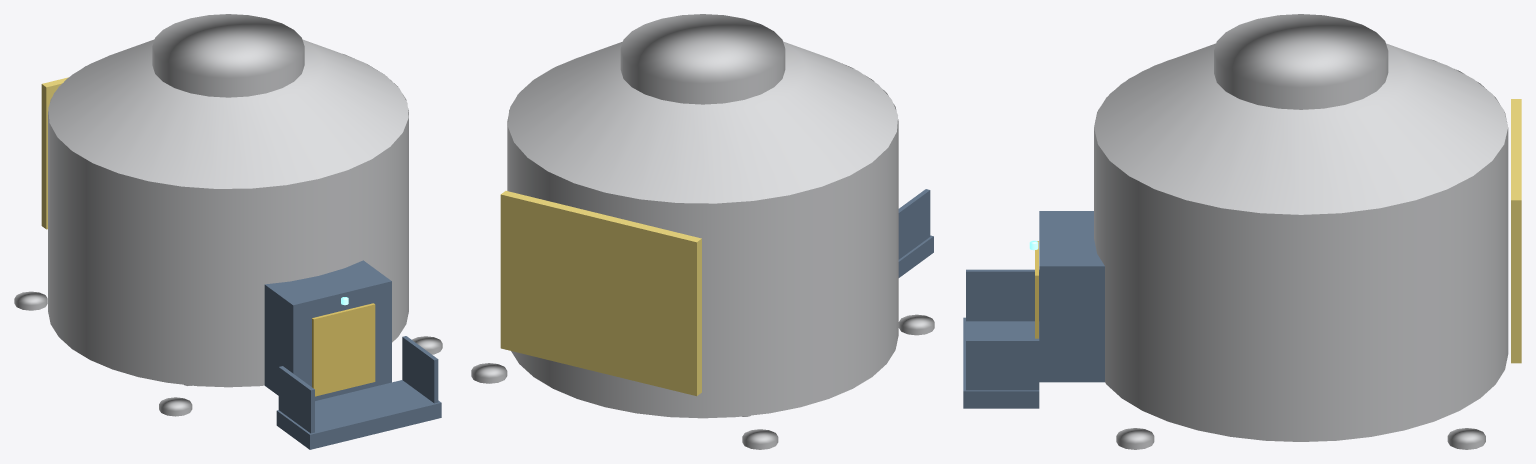
Rendered from crew_hab.glb.
3 views of the same model, side by side, from view 1: azimuth 30°, elevation 25°; view 2: azimuth 150°, elevation 25°; view 3: azimuth 270°, elevation 25° (orthographic). The views are drawn at different scales.
Visible parts, largest first — view 1: EquipmentRoot; view 2: EquipmentRoot; view 3: EquipmentRoot.
Boxes of the visible parts, x1,y1,x2,y2 form: EquipmentRoot: (14,14,442,449); EquipmentRoot: (471,14,934,449); EquipmentRoot: (963,14,1521,449).
Size of the model in its own units: 7.6 by 6.5 by 10.25.
